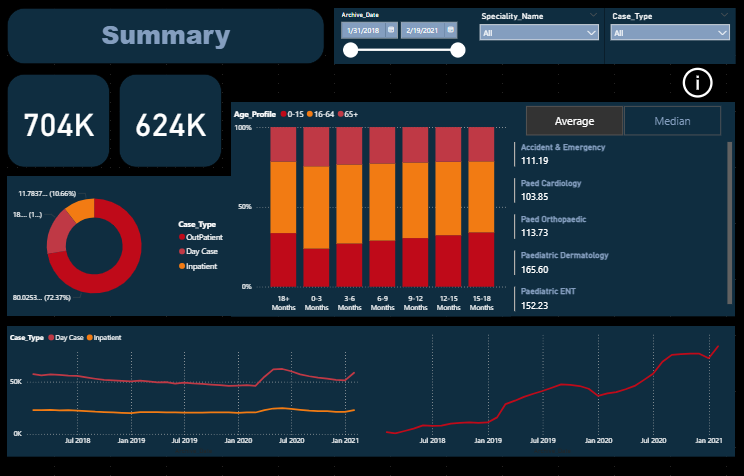

Layout of this report page (visuals, bound fields, positions):
{"tool":"powerbi","page":{"name":"Summary","canvas":[1280,820],"ordinal":0},"visuals":[{"type":"card","fields":{"Values":["All_Data.latest month's year"]},"box":[16,128,176,160],"z":0},{"type":"card","fields":{"Values":["All_Data.py year's month"]},"box":[208,128,176,160],"z":1000},{"type":"slicer","fields":{"Values":["Calculation method.calc method"]},"box":[880,176,384,64],"z":2000},{"type":"donutChart","fields":{"Category":["All_Data.Case_Type"],"Y":["All_Data.Avg/Med wait list"]},"box":[16,304,384,240],"z":3000},{"type":"hundredPercentStackedColumnChart","fields":{"Category":["All_Data.Time_Bands"],"Series":["All_Data.Age_Profile"],"Y":["All_Data.Avg/Med wait list"]},"box":[400,176,480,368],"z":4000},{"type":"multiRowCard","fields":{"Values":["All_Data.Speciality_Name","All_Data.Avg/Med wait list"]},"box":[880,240,384,304],"z":5000},{"type":"card","fields":{"Values":["All_Data.Nodataleft"]},"box":[96,608,432,144],"z":6000},{"type":"lineChart","fields":{"Category":["All_Data.Archive_Date"],"Y":["Sum(All_Data.Total)"],"Series":["All_Data.Case_Type"]},"box":[640,560,624,224],"z":7000},{"type":"lineChart","fields":{"Category":["All_Data.Archive_Date"],"Y":["Sum(All_Data.Total)"],"Series":["All_Data.Case_Type"]},"box":[16,560,624,224],"z":8000},{"type":"slicer","fields":{"Values":["All_Data.Archive_Date"]},"box":[576,16,240,96],"z":9000},{"type":"slicer","fields":{"Values":["All_Data.Speciality_Name"]},"box":[816,16,224,96],"z":10000},{"type":"slicer","fields":{"Values":["All_Data.Case_Type"]},"box":[1040,16,224,96],"z":11000},{"type":"textbox","box":[16,16,544,96],"z":12000},{"type":"actionButton","box":[1168,112,96,64],"z":13000}]}

Visuals, with their boxes in screenshot pixels (x1, y1, x2, y2), scaled from the page's 1280x820 canvas onto the 744x476 screenshot:
card - All_Data.latest month's year: BBox(9, 74, 112, 167)
card - All_Data.py year's month: BBox(121, 74, 223, 167)
slicer - Calculation method.calc method: BBox(512, 102, 735, 139)
donutChart - All_Data.Case_Type x All_Data.Avg/Med wait list: BBox(9, 176, 233, 316)
hundredPercentStackedColumnChart - All_Data.Time_Bands x All_Data.Age_Profile: BBox(233, 102, 512, 316)
multiRowCard - All_Data.Speciality_Name x All_Data.Avg/Med wait list: BBox(512, 139, 735, 316)
card - All_Data.Nodataleft: BBox(56, 353, 307, 437)
lineChart - All_Data.Archive_Date x Sum(All_Data.Total): BBox(372, 325, 735, 455)
lineChart - All_Data.Archive_Date x Sum(All_Data.Total): BBox(9, 325, 372, 455)
slicer - All_Data.Archive_Date: BBox(335, 9, 474, 65)
slicer - All_Data.Speciality_Name: BBox(474, 9, 604, 65)
slicer - All_Data.Case_Type: BBox(604, 9, 735, 65)
textbox: BBox(9, 9, 326, 65)
actionButton: BBox(679, 65, 735, 102)
